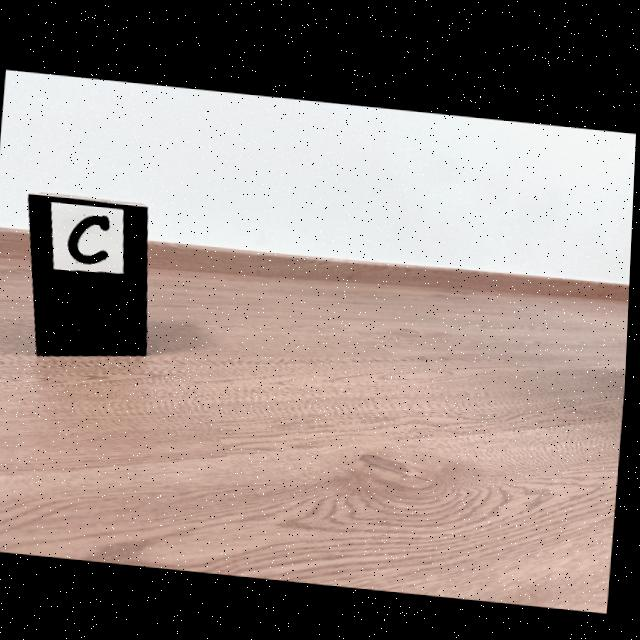C: (69, 214, 111, 263)
